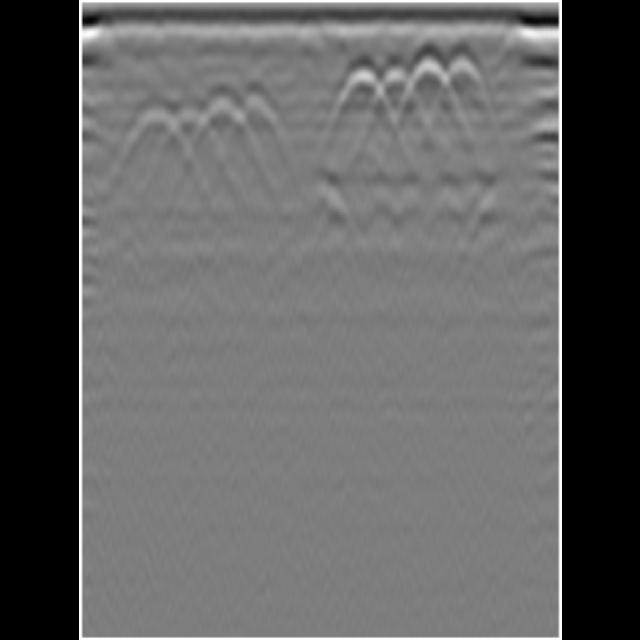hyperbola: (120, 95, 180, 158), (438, 48, 489, 98), (230, 87, 280, 133), (333, 66, 377, 116), (162, 104, 202, 152), (408, 52, 449, 98), (371, 60, 411, 106), (198, 97, 240, 137)
